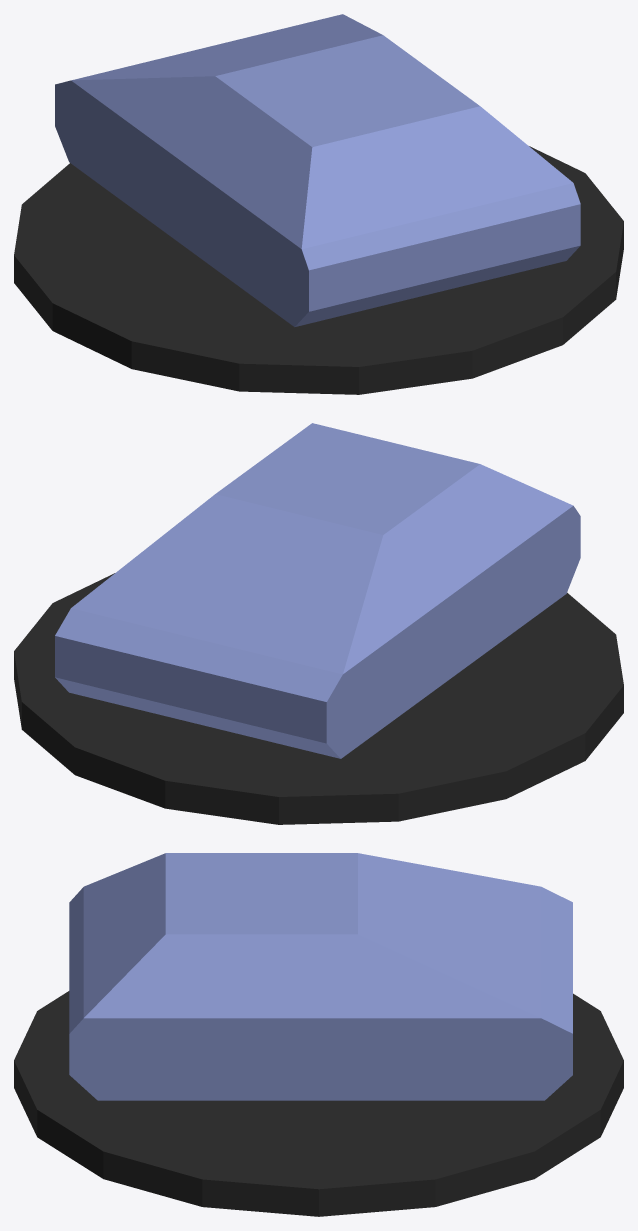
The model's file is TankUnit.fbx.
3 views of the same model, one above another, from view 1: azimuth 30°, elevation 25°; view 2: azimuth 150°, elevation 25°; view 3: azimuth 270°, elevation 25° (orthographic).
Visible parts, largest first — view 1: TankFig; view 2: TankFig; view 3: TankFig.
Boxes of the visible parts, x1=… form: TankFig: x1=14, y1=14, x2=623, y2=394; TankFig: x1=14, y1=423, x2=623, y2=824; TankFig: x1=14, y1=853, x2=623, y2=1216.
Bounding box in the file's own units: 1 × 0.3513 × 1.
